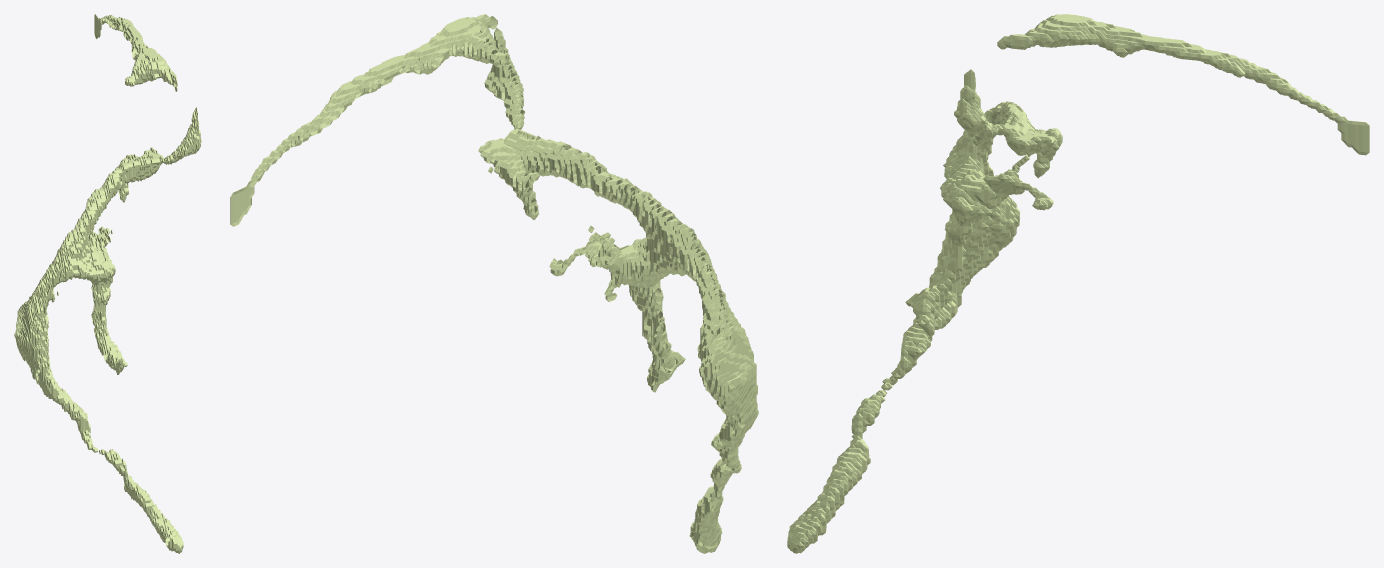
The model's file is SVV_URXL.gltf.
3 renders of one model, left to right at view 1: azimuth 30°, elevation 25°; view 2: azimuth 150°, elevation 25°; view 3: azimuth 270°, elevation 25°, orthographic. The views are drawn at different scales.
Parts seen in each view (by area): view 1: URXL; view 2: URXL; view 3: URXL.
Boxes of the visible parts, x1=… form: URXL: x1=14, y1=14, x2=201, y2=553; URXL: x1=230, y1=14, x2=758, y2=553; URXL: x1=787, y1=14, x2=1369, y2=553.
Size of the model in its own units: 62140 by 115428 by 104939.
